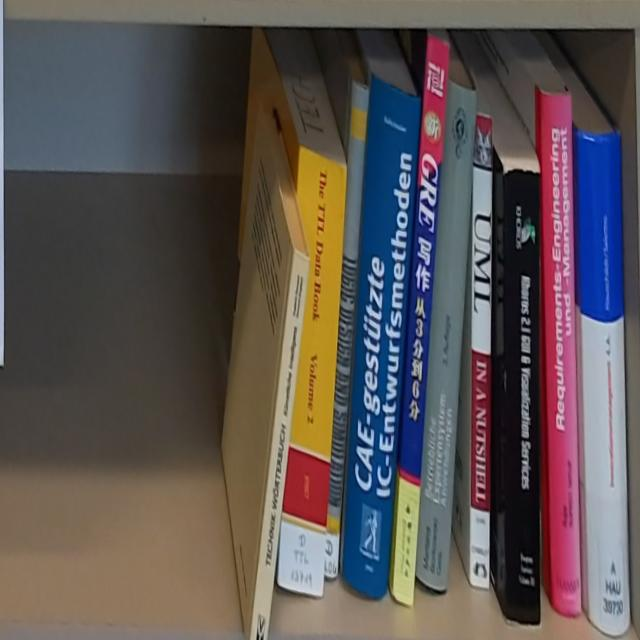Book Spine: (342, 69, 422, 601), (390, 31, 452, 610), (276, 144, 348, 596), (414, 73, 475, 596), (574, 121, 631, 638), (249, 246, 312, 640), (538, 89, 582, 619), (324, 80, 368, 580), (503, 170, 542, 629), (471, 114, 493, 590)
